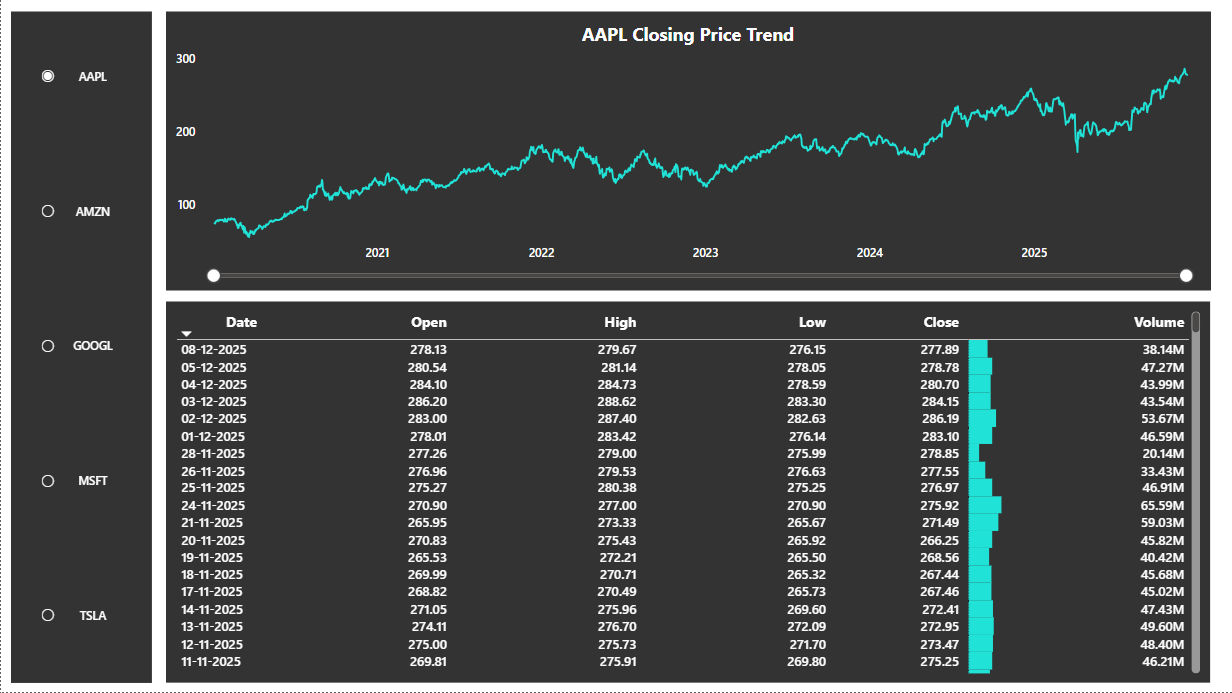

This screenshot's page, from the dashboard's own definition file:
{"tool":"powerbi","page":{"name":"Stock Data Viewer","canvas":[1280,720],"ordinal":0},"visuals":[{"type":"advancedSlicerVisual","fields":{"Values":["forecast_results.Ticker"]},"box":[10.3,12.8,146.2,697.4],"z":0},{"type":"lineChart","fields":{"Category":["stock_data.date"],"Y":["Sum(stock_data.close)"]},"box":[171.8,12.8,1084.6,289.7],"z":1000},{"type":"tableEx","fields":{"Values":["stock_data.date","Sum(stock_data.open)","Sum(stock_data.high)","Sum(stock_data.low)","Sum(stock_data.close)","Sum(stock_data.volume)"]},"box":[171.8,314.1,1084.6,396.2],"z":2000}]}

Visuals, with their boxes in screenshot pixels (x1, y1, x2, y2), scaled from the page's 1280x720 canvas onto the 1232x693 screenshot:
advancedSlicerVisual - forecast_results.Ticker: select_region(10, 12, 151, 684)
lineChart - stock_data.date x Sum(stock_data.close): select_region(165, 12, 1209, 291)
tableEx - stock_data.date x Sum(stock_data.open): select_region(165, 302, 1209, 684)
